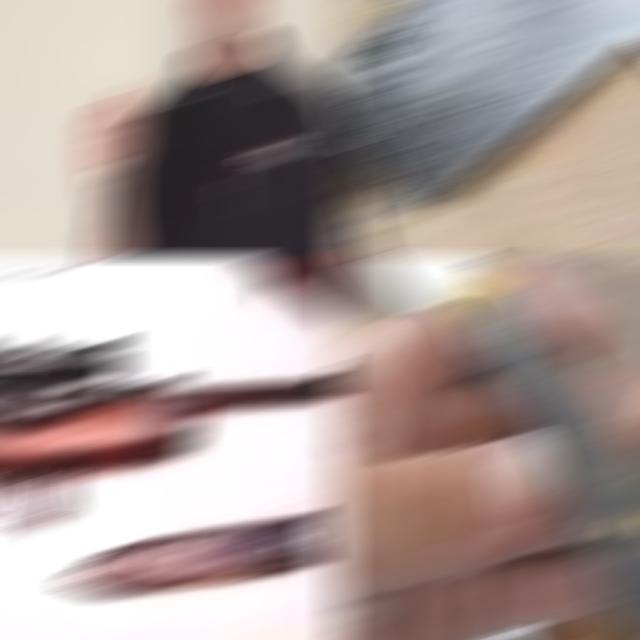Knife: (370, 258, 640, 638), (330, 2, 640, 203)
Knife_Handle: (75, 81, 147, 254)
